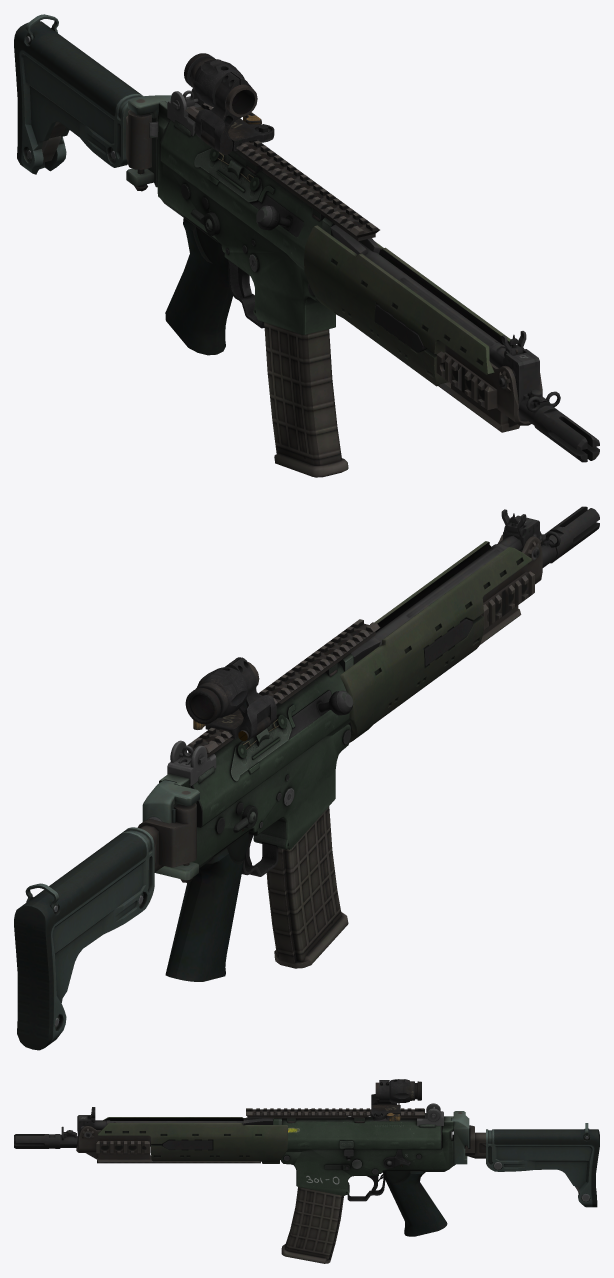
The picture shows the model from 3 angles, top to bottom: view 1: azimuth 30°, elevation 25°; view 2: azimuth 150°, elevation 25°; view 3: azimuth 270°, elevation 25°; orthographic projection. The views are drawn at different scales.
Parts seen in each view (by area): view 1: AK5C, AK5C_mag, 2xmag_optic, 2xmag_base, AK5C_bolt; view 2: AK5C, AK5C_mag, 2xmag_optic, AK5C_bolt, 2xmag_base; view 3: AK5C, AK5C_mag, 2xmag_optic, 2xmag_base.
Part boxes in pixels (x1=…): AK5C: x1=14, y1=14, x2=599, y2=462; AK5C_mag: x1=264, y1=322, x2=348, y2=477; 2xmag_optic: x1=184, y1=53, x2=257, y2=155; 2xmag_base: x1=194, y1=112, x2=274, y2=151; AK5C_bolt: x1=249, y1=194, x2=303, y2=237; AK5C: x1=14, y1=506, x2=599, y2=1050; AK5C_mag: x1=266, y1=806, x2=348, y2=968; 2xmag_optic: x1=185, y1=657, x2=276, y2=740; AK5C_bolt: x1=289, y1=690, x2=353, y2=739; 2xmag_base: x1=193, y1=709, x2=270, y2=741; AK5C: x1=14, y1=1103, x2=599, y2=1236; AK5C_mag: x1=281, y1=1187, x2=343, y2=1263; 2xmag_optic: x1=371, y1=1079, x2=421, y2=1104; 2xmag_base: x1=371, y1=1103, x2=400, y2=1121.
Size of the model in its own units: 7.08 by 29.75 by 87.59.
Materials: 6 (6 with a texture image).
